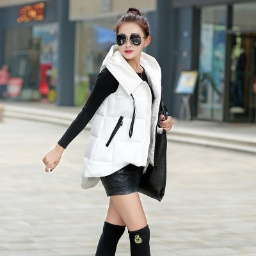face: (108, 5, 153, 62)
